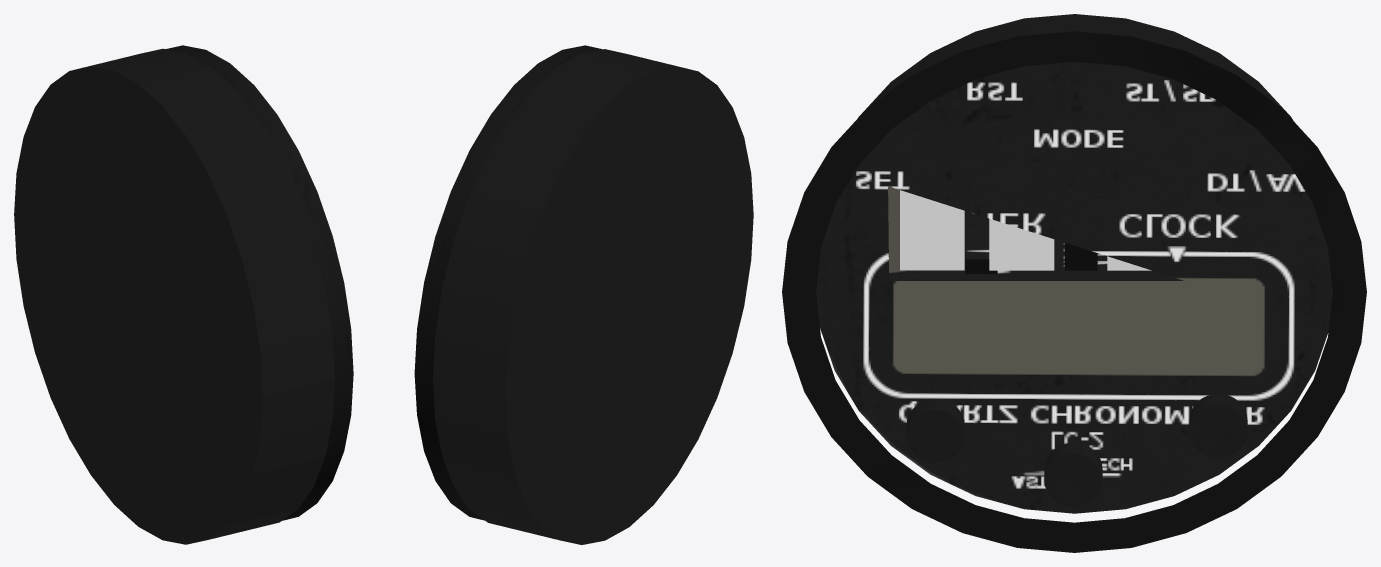
The model's file is digital-clock.gltf.
3 views of the same model, side by side, from view 1: azimuth 30°, elevation 25°; view 2: azimuth 150°, elevation 25°; view 3: azimuth 270°, elevation 25° (orthographic). The views are drawn at different scales.
Visible parts, largest first — view 1: DigitalClock, Case; view 2: DigitalClock, Case; view 3: DigitalClock, Case, HR.001, KnobCenter, KnobRight, KnobLeft, HR.002, M877.colon.
Part boxes in pixels (x1,y1,x2,y2): DigitalClock: (14, 48, 334, 544); Case: (166, 45, 353, 520); DigitalClock: (433, 49, 753, 544); Case: (414, 45, 602, 520); DigitalClock: (816, 14, 1332, 513); Case: (782, 31, 1366, 552); HR.001: (900, 190, 964, 270); KnobCenter: (1044, 442, 1102, 506); KnobRight: (1189, 394, 1247, 457); KnobLeft: (906, 399, 964, 462); HR.002: (989, 218, 1054, 270); M877.colon: (1065, 243, 1097, 270).
Size of the model in its own units: 0.00988 by 0.0499 by 0.0507.
5 materials, 4 textured.
